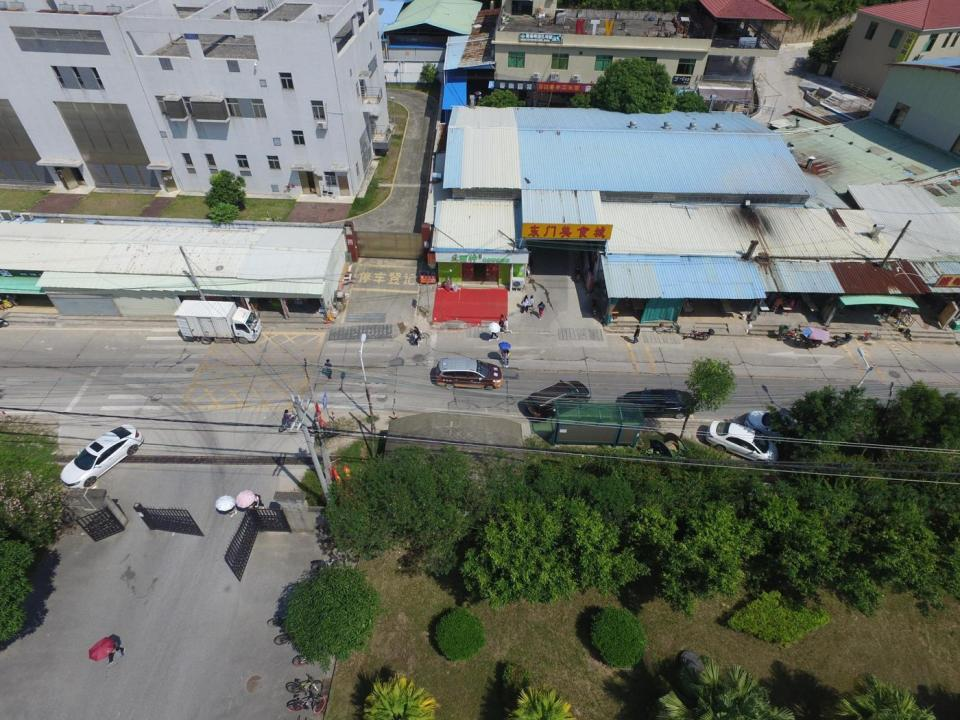car: (61, 423, 142, 490), (706, 420, 778, 462), (526, 379, 590, 421), (616, 387, 698, 418), (436, 357, 505, 389), (746, 410, 809, 443)
van: (173, 300, 262, 343)
